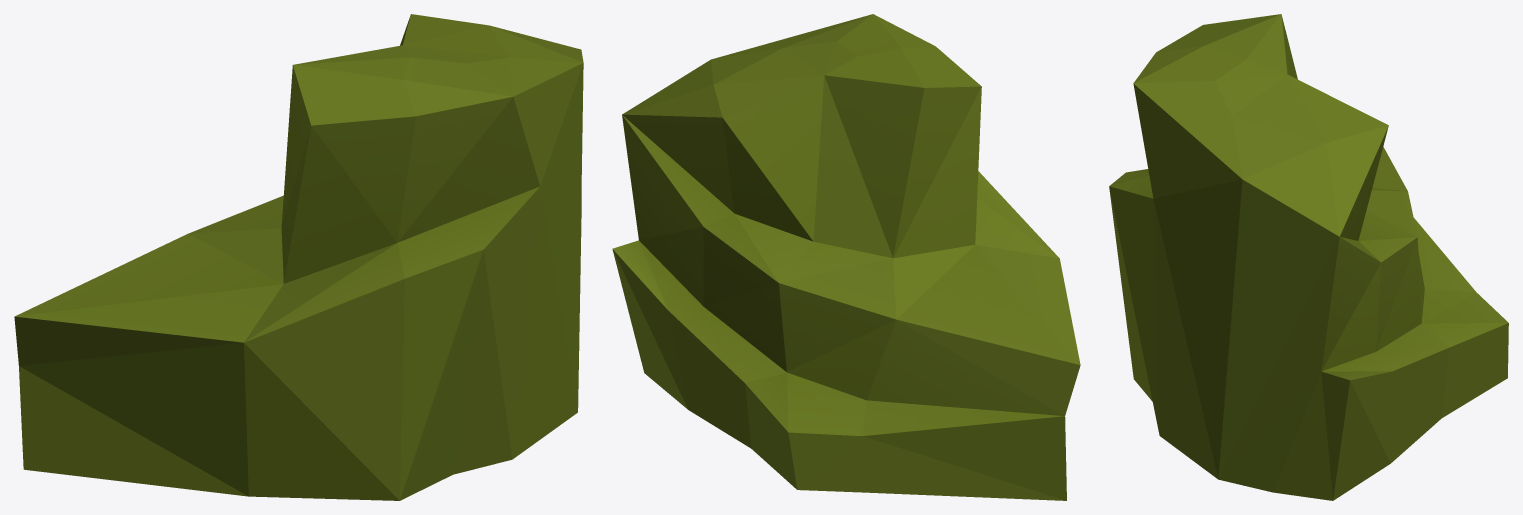
The model's file is angular_cliff_b.glb.
3 renders of one model, left to right at view 1: azimuth 30°, elevation 25°; view 2: azimuth 150°, elevation 25°; view 3: azimuth 270°, elevation 25°, orthographic. The views are drawn at different scales.
Size of the model in its own units: 6.59 by 4.41 by 4.46.
